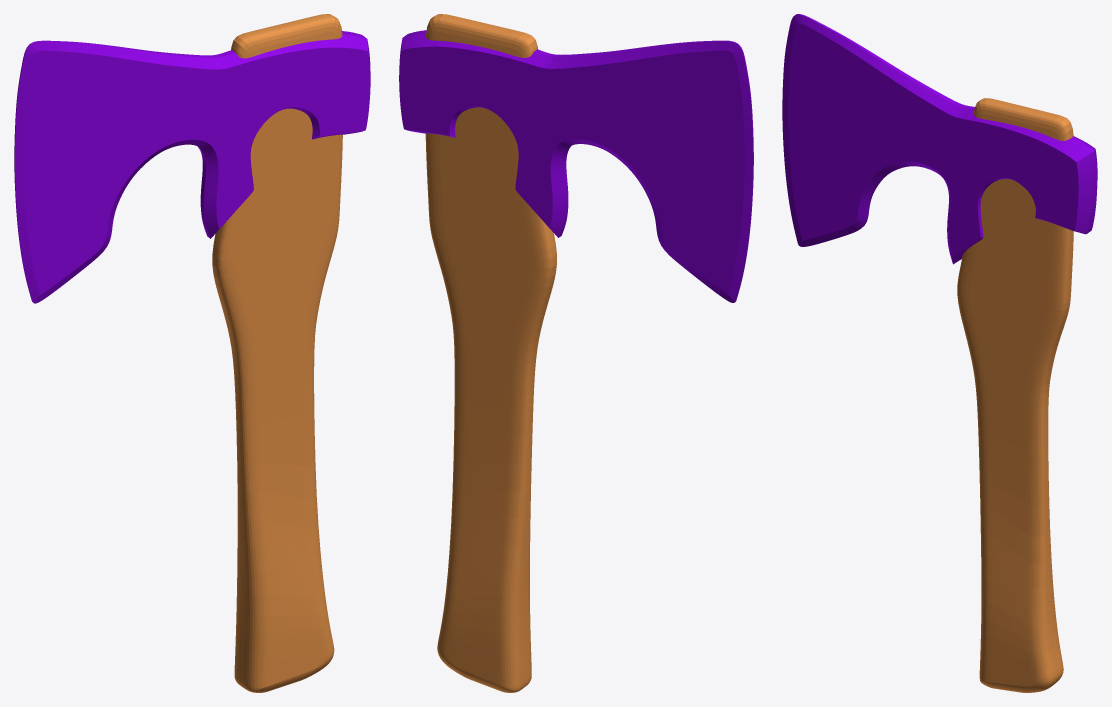
The model's file is Axe_2.fbx.
3 views of the same model, side by side, from view 1: azimuth 30°, elevation 25°; view 2: azimuth 150°, elevation 25°; view 3: azimuth 330°, elevation 25° (orthographic). The views are drawn at different scales.
Parts seen in each view (by area): view 1: Axe1; view 2: Axe1; view 3: Axe1.
Boxes of the visible parts, bbox=[...] form: Axe1: bbox=[14, 14, 370, 692]; Axe1: bbox=[399, 14, 753, 692]; Axe1: bbox=[782, 14, 1097, 692].
Size of the model in its own units: 3.34 by 6.35 by 0.4139.
